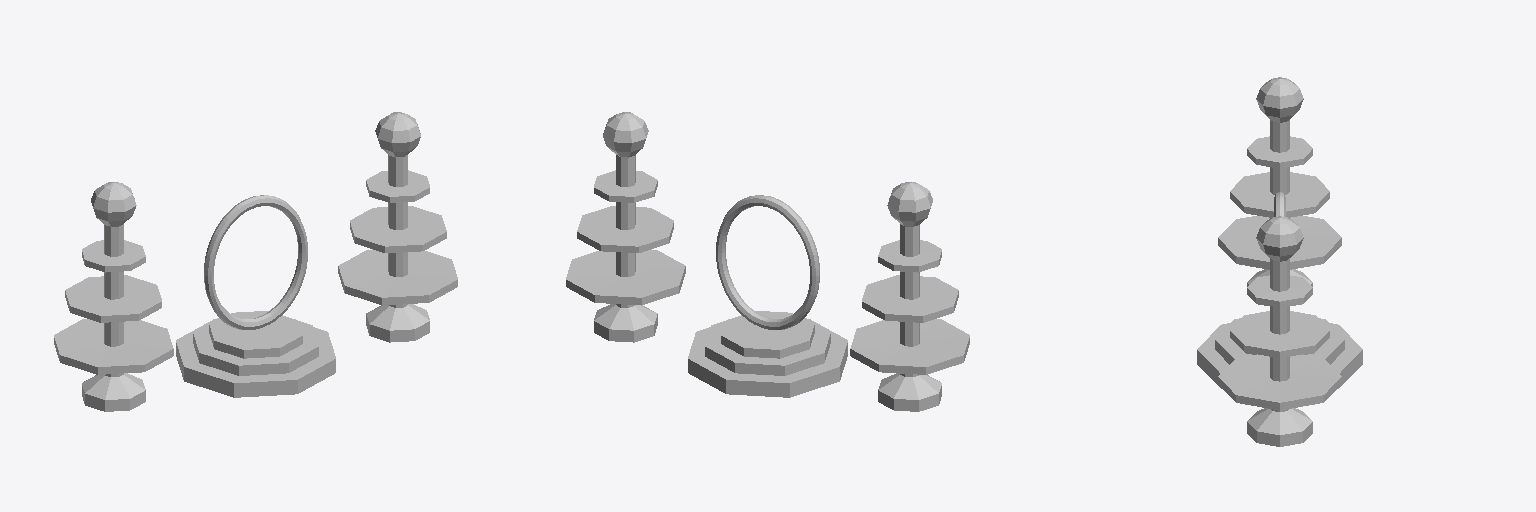
Rendered from warp gate.obj.
The picture shows the model from 3 angles: view 1: azimuth 30°, elevation 25°; view 2: azimuth 150°, elevation 25°; view 3: azimuth 270°, elevation 25°; orthographic projection.
Visible parts, largest first — view 1: Circle; view 2: Circle; view 3: Circle.
Part boxes in pixels (left/top/right/bottom): Circle: left=54, top=112, right=457, bottom=411; Circle: left=566, top=112, right=969, bottom=411; Circle: left=1197, top=77, right=1362, bottom=446.
Bounding box in the file's own units: 44.07 × 23.18 × 16.19.